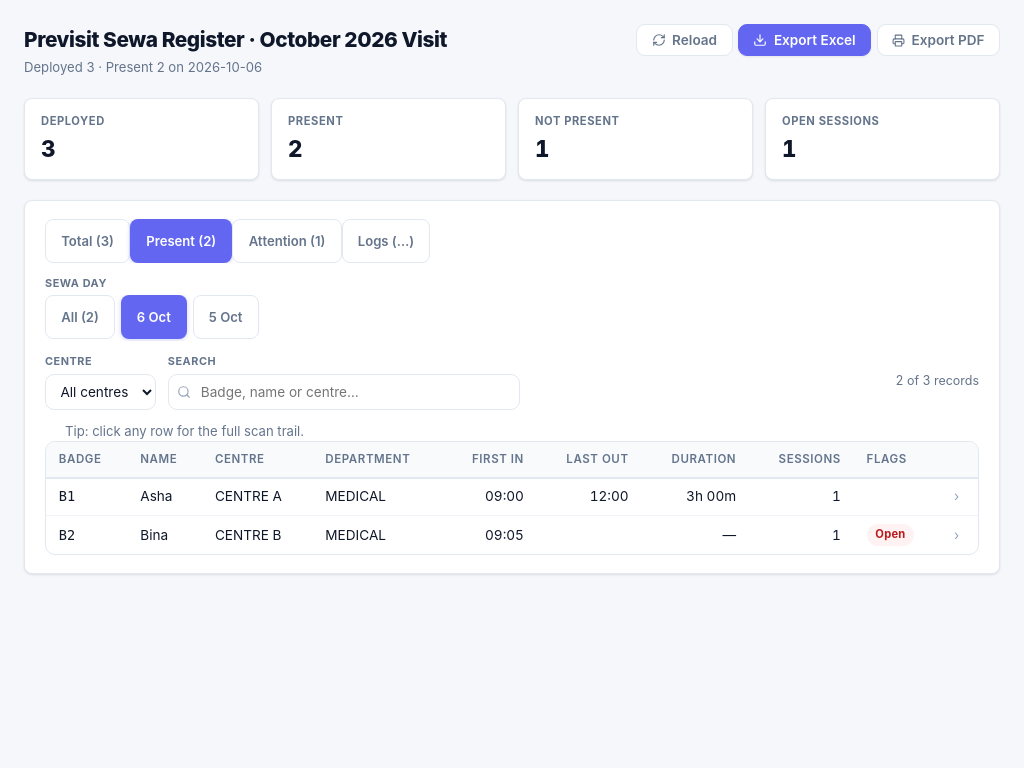
Scenario: PrevisitView drill-in + Logs › present rows open the popup too
This screenshot has width=1024, height=768.
Expected: the text "Asha" is shown, x1=128 y1=478 x2=202 y2=516
Click the button with aria-label "Open details for B1". click: (512, 497)
box: x1=46 y1=478 x2=978 y2=516
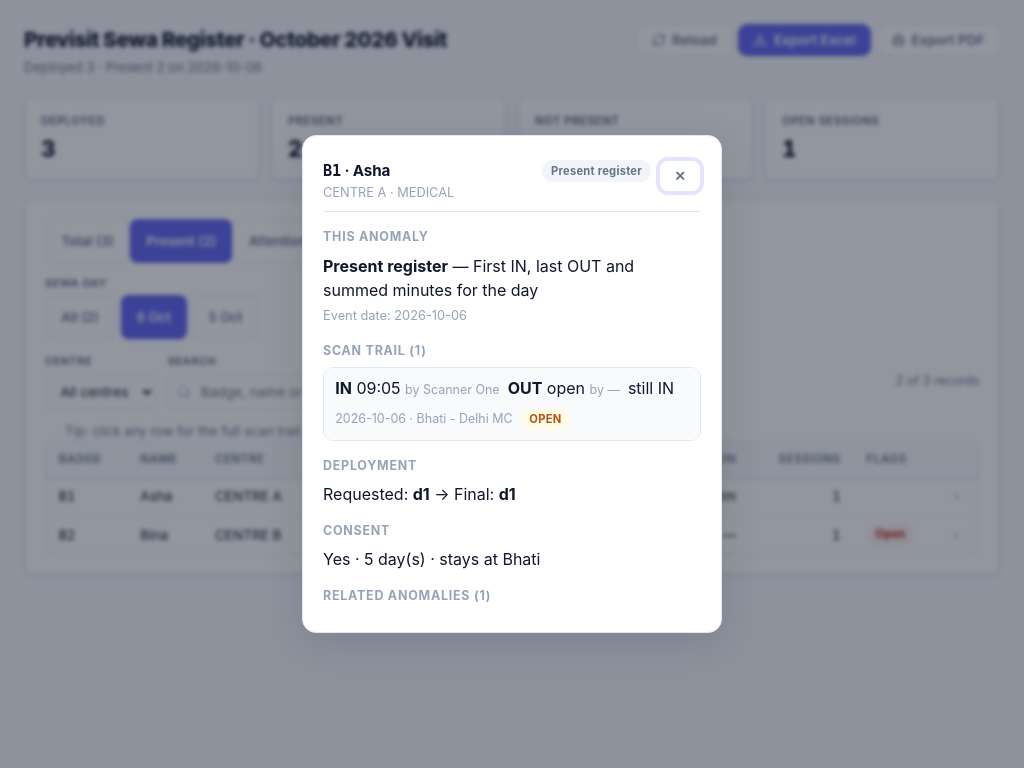
Now the dialog is shown, box x1=302 y1=135 x2=722 y2=633
Now the dialog shows "B1", box x1=323 y1=162 x2=341 y2=180
